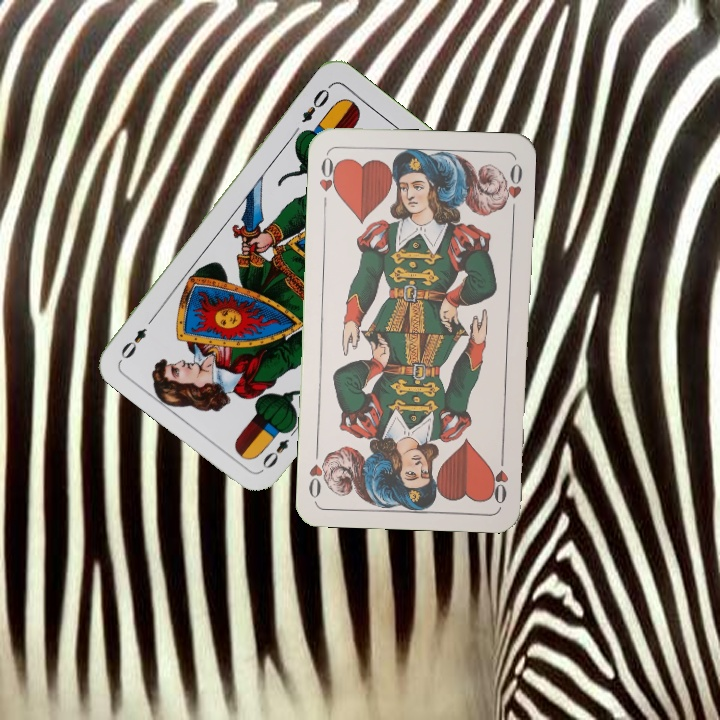EO: (258, 422, 301, 472), (297, 80, 334, 126)
HO: (315, 151, 341, 210), (489, 448, 511, 507)
